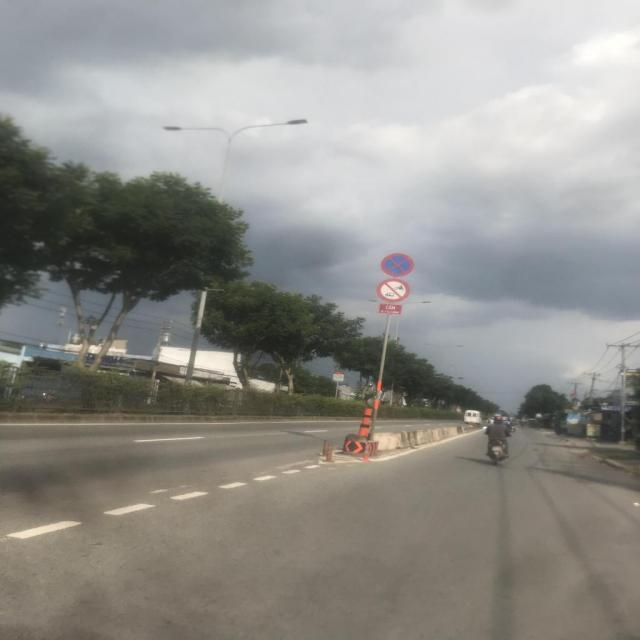cam_dung_xe_va_do_xe: (378, 252, 414, 278)
cam_xe_2_banh_va_xe_3_banh_co_dong_co: (374, 277, 410, 302)
